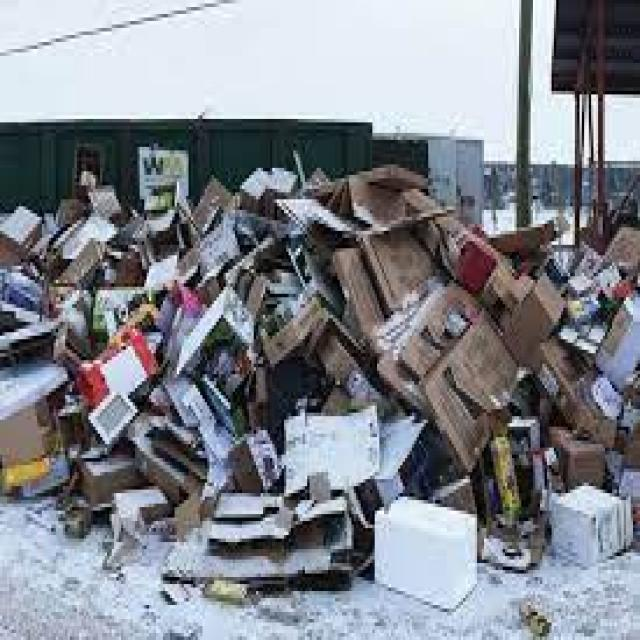cardboard: (16, 214, 640, 608)
